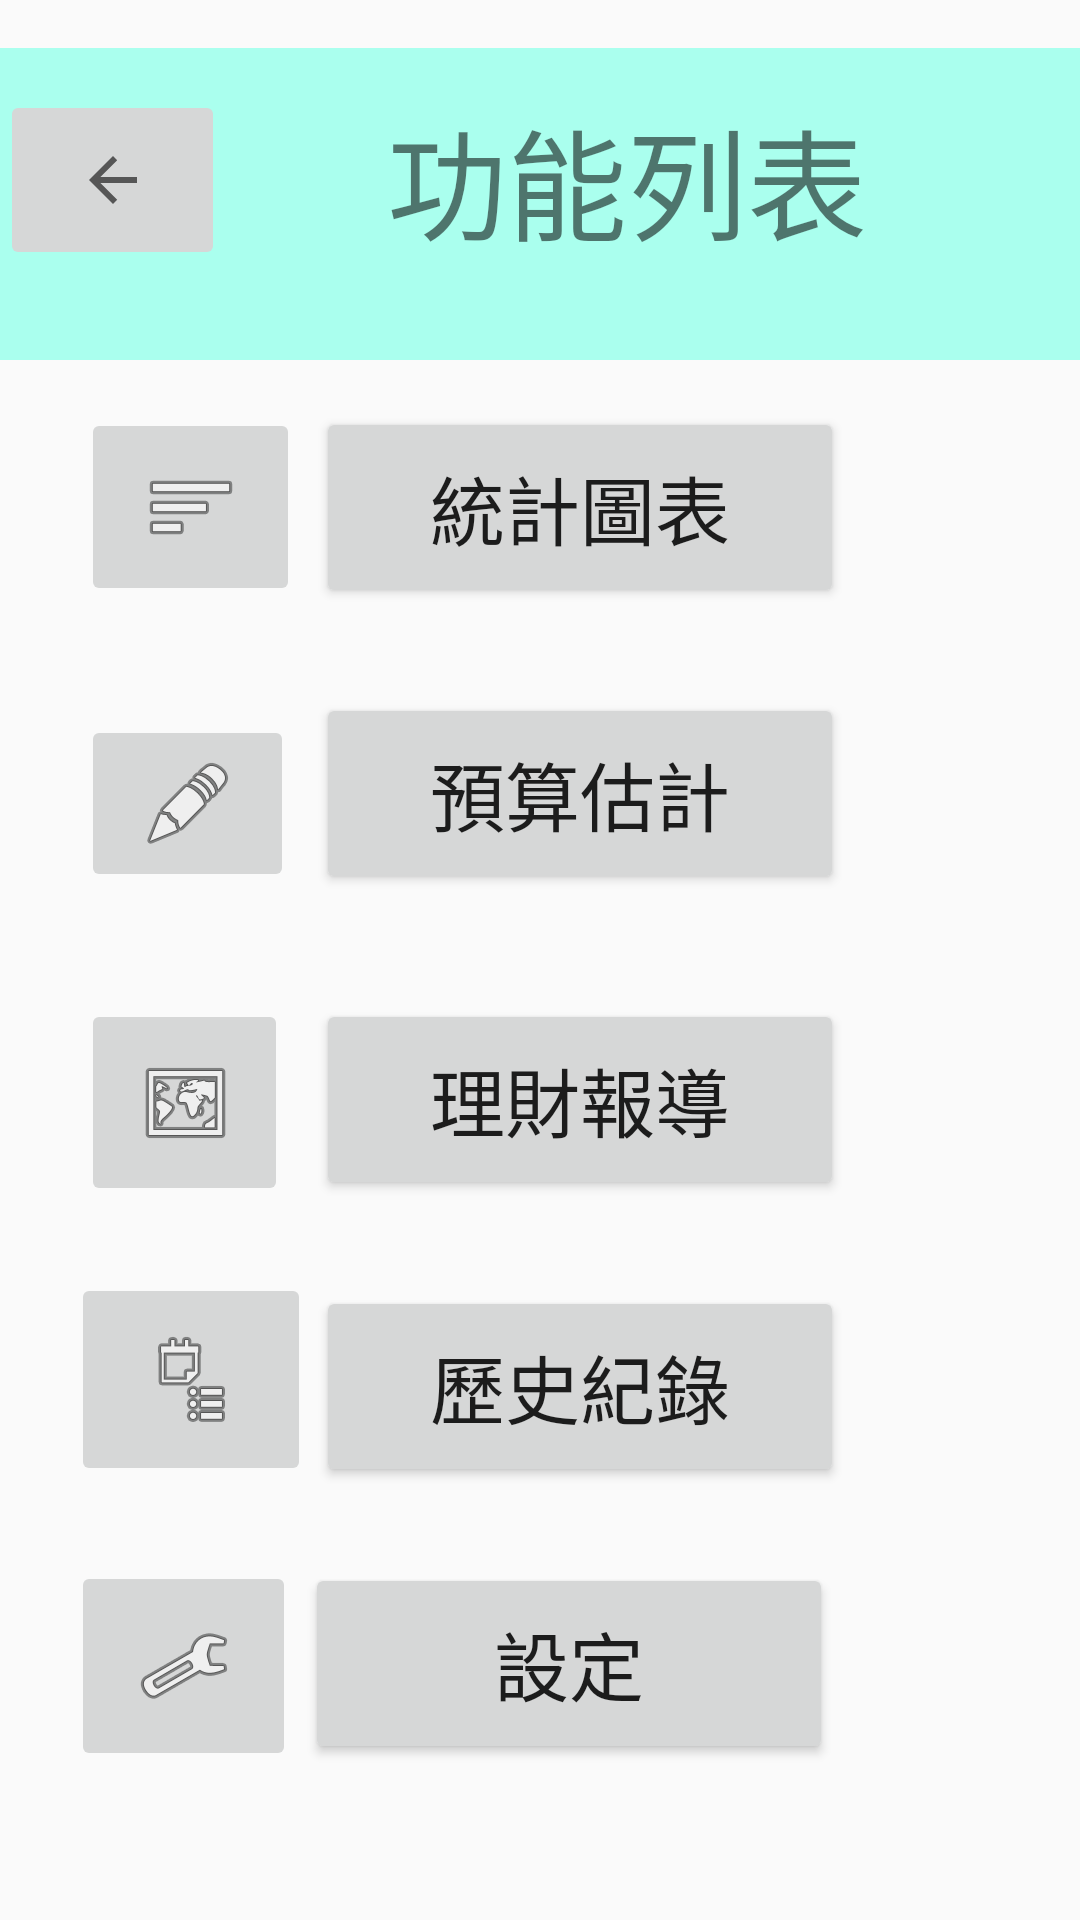

Point at icon controls on the screen. Image size 1080 × 1920, points as (x=x, y=y).
agenda: (x=191, y=1379)
edit: (x=187, y=803)
manage: (x=183, y=1666)
mapmode: (x=184, y=1102)
sort by size: (x=190, y=507)
